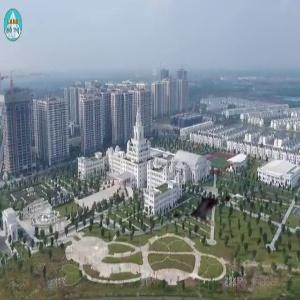drone: (167, 170, 247, 250)
